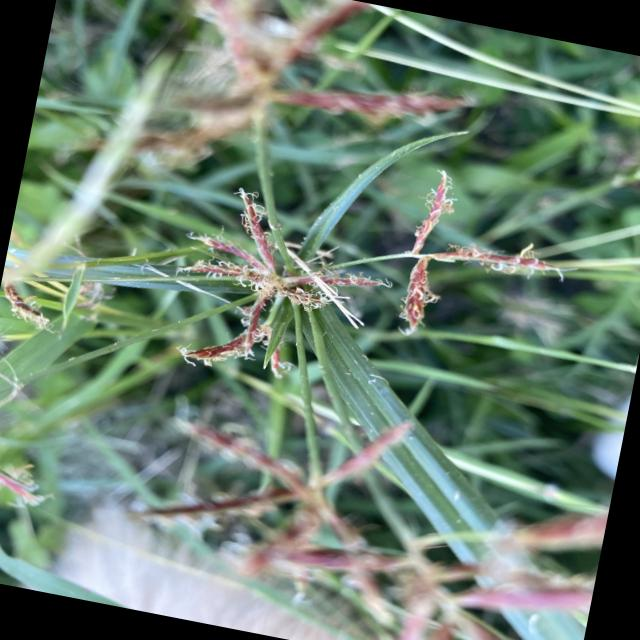cyperus: (112, 383, 614, 640), (168, 152, 574, 444), (97, 0, 482, 232)
